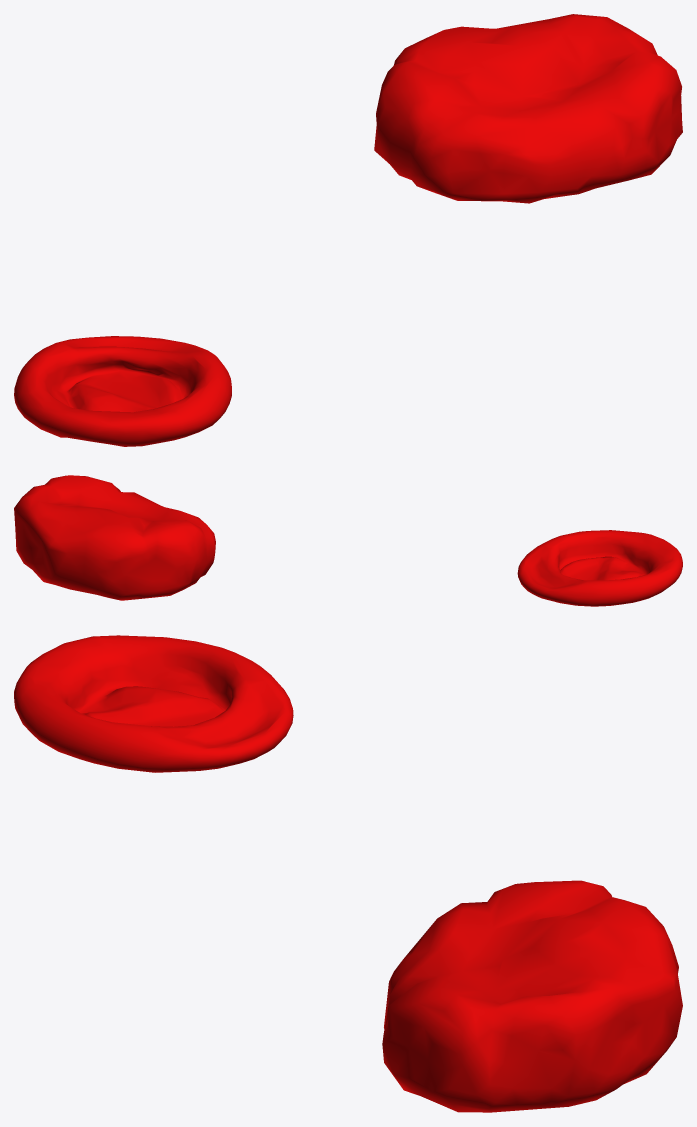
The model's file is dog_beds_grp.fbx.
The picture shows the model from 3 angles, top to bottom: view 1: azimuth 30°, elevation 25°; view 2: azimuth 150°, elevation 25°; view 3: azimuth 270°, elevation 25°; orthographic projection. The views are drawn at different scales.
Visible parts, largest first — view 1: dog_bed_2, dog_bed_1; view 2: dog_bed_2, dog_bed_1; view 3: dog_bed_2, dog_bed_1.
Part boxes in pixels (<box>): dog_bed_2: <box>374,14,682,203</box>; dog_bed_1: <box>14,336,231,446</box>; dog_bed_2: <box>14,475,215,600</box>; dog_bed_1: <box>517,530,682,606</box>; dog_bed_2: <box>382,880,682,1112</box>; dog_bed_1: <box>14,635,293,772</box>.
Bounding box in the file's own units: 284 × 33.38 × 176.
